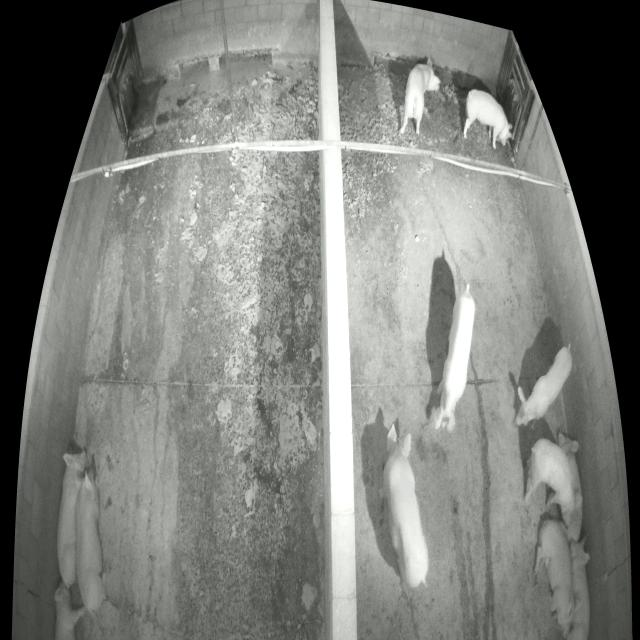pig: (377, 423, 428, 588), (433, 289, 474, 434), (532, 518, 580, 637), (525, 438, 582, 529), (515, 346, 572, 431), (75, 466, 107, 614), (56, 449, 88, 588), (399, 58, 441, 135), (464, 89, 513, 150), (557, 432, 582, 542), (568, 535, 590, 639), (55, 580, 88, 639)
